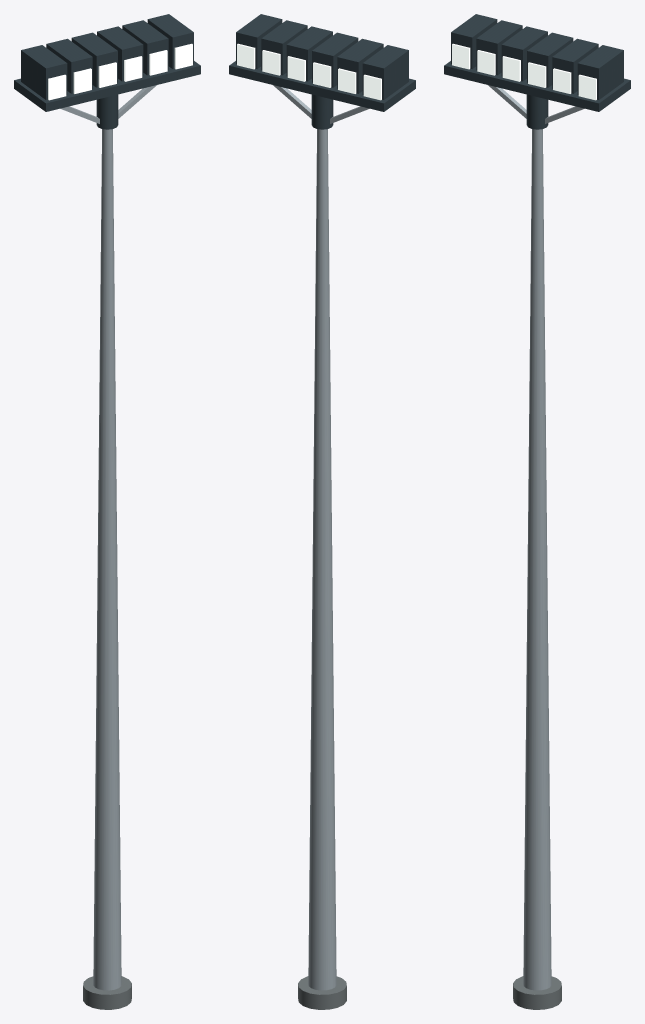
File: light_mast.glb
The picture shows the model from 3 angles, left to right: view 1: azimuth 30°, elevation 25°; view 2: azimuth 150°, elevation 25°; view 3: azimuth 330°, elevation 25°; orthographic projection.
Visible parts, largest first — view 1: light_mast; view 2: light_mast; view 3: light_mast.
Boxes of the visible parts, bbox=[...] form: light_mast: bbox=[14, 14, 200, 1009]; light_mast: bbox=[229, 14, 415, 1009]; light_mast: bbox=[444, 14, 630, 1009].
Bounding box in the file's own units: 4.5 × 26.6 × 1.6.
Materials: 4 (4 with a texture image).
